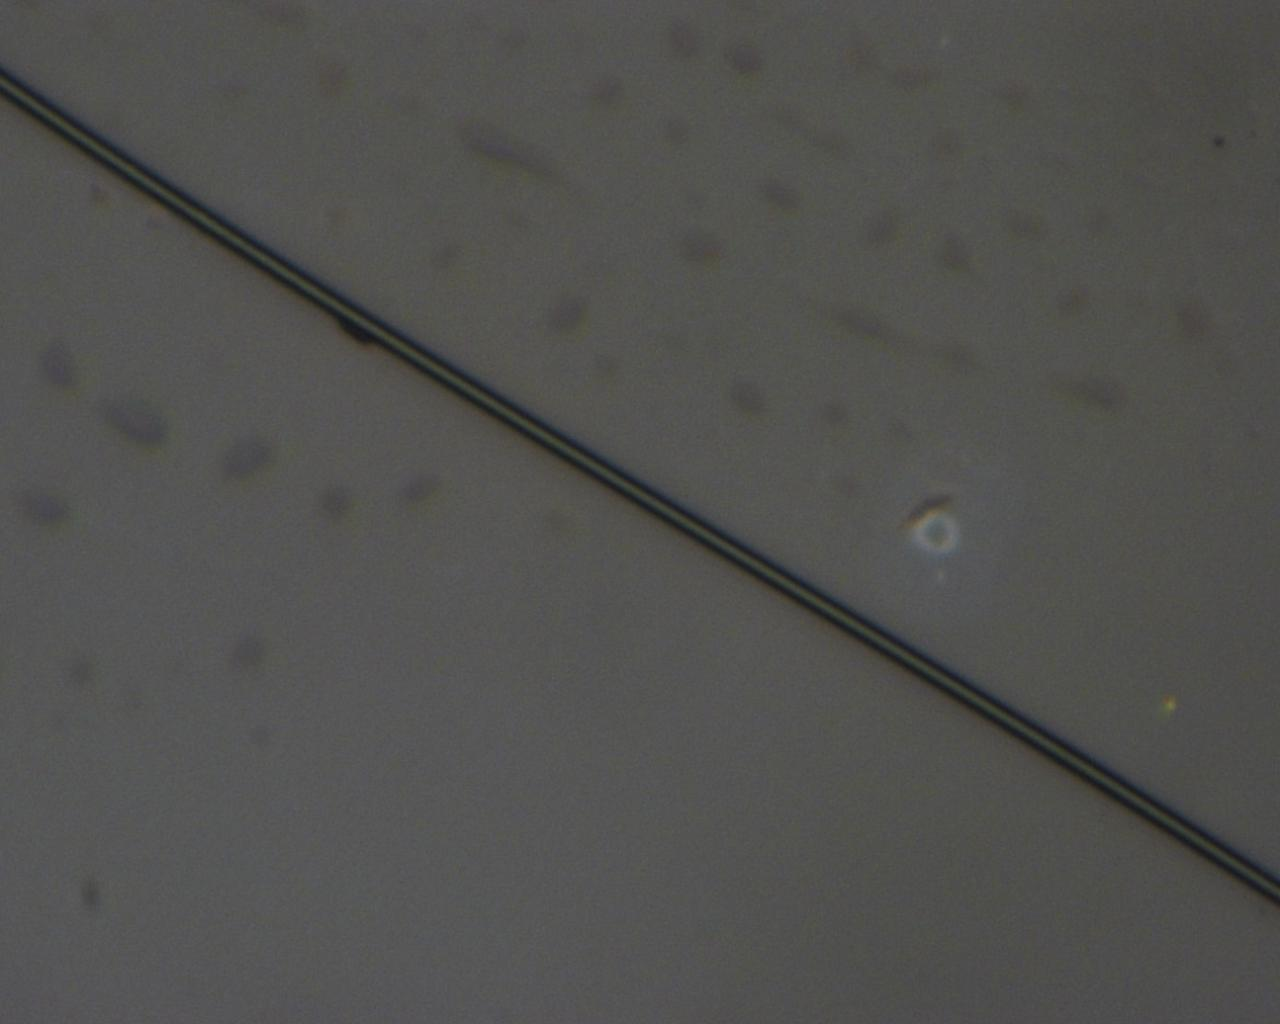fiber: (0, 166, 716, 496), (877, 583, 1038, 894)
